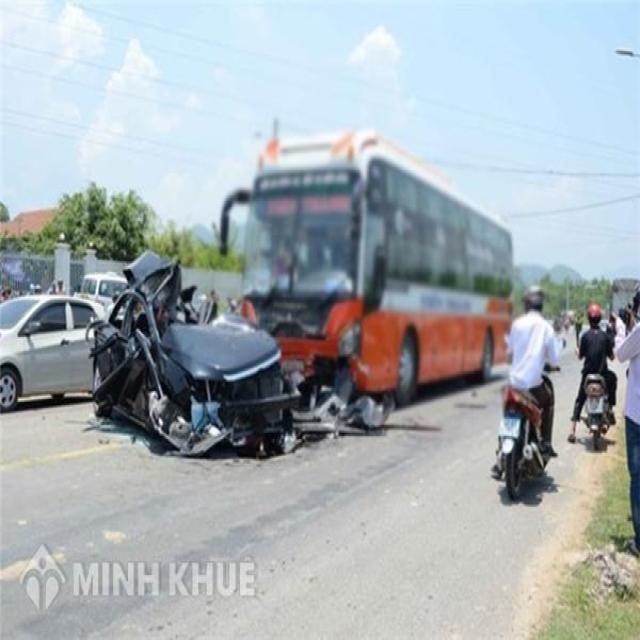accident: (68, 233, 388, 474)
